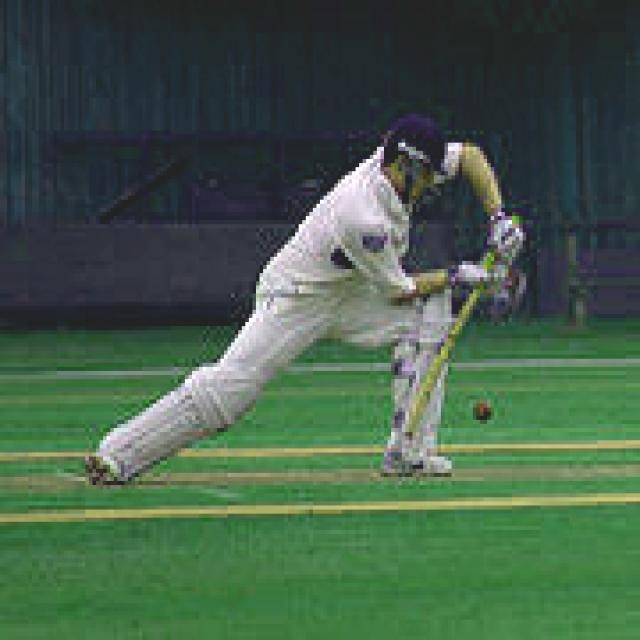toe: (379, 379, 439, 465)
